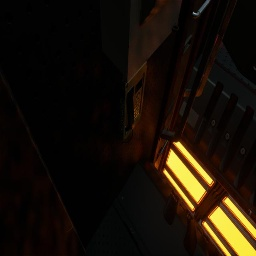EmergencyPhone ,: (119, 61, 147, 143)
SafetySwitchPanel ,: (99, 0, 182, 83)
